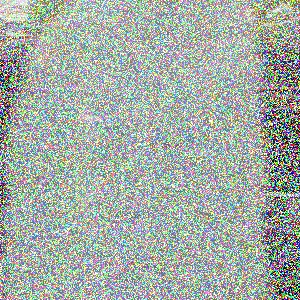Bacterial_Leaf_Blight: (115, 252, 171, 276), (148, 129, 192, 157), (72, 104, 109, 129), (113, 204, 150, 228), (20, 79, 48, 104)
